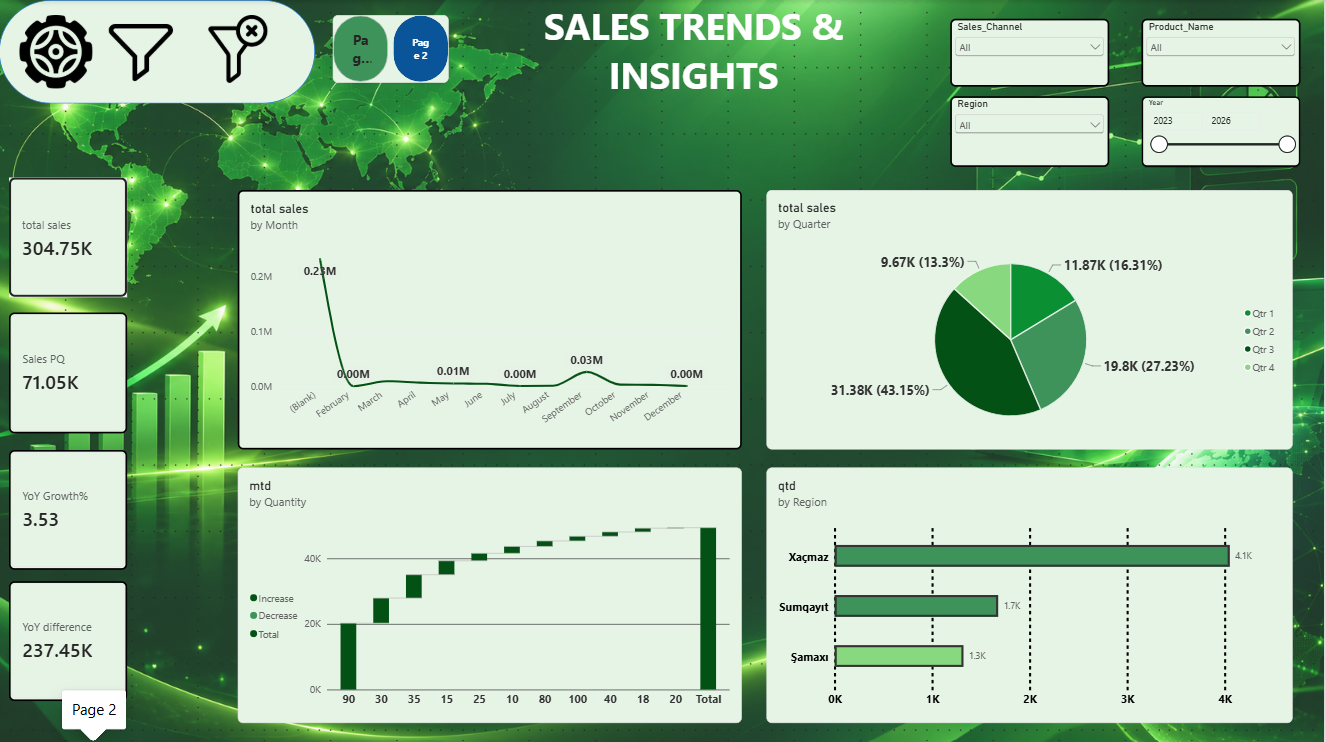

What the dashboard file says about the page in this screenshot:
{"tool":"powerbi","page":{"name":"Page 2","canvas":[1920,1080],"ordinal":1},"visuals":[{"type":"textbox","box":[698,0,618,164],"z":0},{"type":"cardVisual","fields":{"Data":["corporate sales dataset.Sales PQ"]},"box":[14,452,171.1,175.3],"z":1000},{"type":"cardVisual","fields":{"Data":["corporate sales dataset.total sales"]},"box":[14,258,171.1,173.2],"z":2000},{"type":"cardVisual","fields":{"Data":["corporate sales dataset.YoY difference"]},"box":[14,842,171.1,173.2],"z":3000},{"type":"cardVisual","fields":{"Data":["corporate sales dataset.YoY Growth%"]},"box":[14,652,171.1,173.2],"z":4000},{"type":"lineChart","fields":{"Category":["corporate sales dataset.Date.Variation.Date Hierarchy.Month"],"Y":["corporate sales dataset.total sales"]},"box":[346,276,730,376],"z":5000},{"type":"barChart","fields":{"Category":["corporate sales dataset.Region"],"Y":["corporate sales dataset.qtd"]},"box":[1112,678,762,370],"z":6000},{"type":"slicer","fields":{"Values":["corporate sales dataset.Sales_Channel"]},"box":[1378,28,230,98],"z":8000},{"type":"slicer","fields":{"Values":["corporate sales dataset.Region"]},"box":[1378,140,230,102],"z":9000},{"type":"slicer","fields":{"Values":["corporate sales dataset.Product_Name"]},"box":[1656,28,230,98],"z":10000},{"type":"slicer","fields":{"Values":["corporate sales dataset.Date.Variation.Date Hierarchy.Year"]},"box":[1656,140,230,102],"z":11000},{"type":"waterfallChart","fields":{"Category":["corporate sales dataset.Quantity"],"Y":["corporate sales dataset.mtd"]},"box":[346,678,730,370],"z":12000},{"type":"pieChart","fields":{"Category":["corporate sales dataset.Date.Variation.Date Hierarchy.Quarter"],"Y":["corporate sales dataset.total sales"]},"box":[1112,276,762,376],"z":13000},{"type":"shape","box":[0,0,458,150],"z":13500},{"type":"image","box":[150,22,110,104],"z":14000},{"type":"image","box":[286,22,120,98],"z":15000},{"type":"image","box":[14,22,136,106],"z":16000},{"type":"pageNavigator","box":[484,22,168,98],"z":16001}]}

Visuals, with their boxes in screenshot pixels (x1, y1, x2, y2), scaled from the page's 1920x1080 canvas onto the 1326x742 screenshot:
textbox: [482, 0, 909, 113]
cardVisual - corporate sales dataset.Sales PQ: [10, 311, 128, 431]
cardVisual - corporate sales dataset.total sales: [10, 177, 128, 296]
cardVisual - corporate sales dataset.YoY difference: [10, 578, 128, 697]
cardVisual - corporate sales dataset.YoY Growth%: [10, 448, 128, 567]
lineChart - corporate sales dataset.Date.Variation.Date Hierarchy.Month x corporate sales dataset.total sales: [239, 190, 743, 448]
barChart - corporate sales dataset.Region x corporate sales dataset.qtd: [768, 466, 1294, 720]
slicer - corporate sales dataset.Sales_Channel: [952, 19, 1111, 87]
slicer - corporate sales dataset.Region: [952, 96, 1111, 166]
slicer - corporate sales dataset.Product_Name: [1144, 19, 1303, 87]
slicer - corporate sales dataset.Date.Variation.Date Hierarchy.Year: [1144, 96, 1303, 166]
waterfallChart - corporate sales dataset.Quantity x corporate sales dataset.mtd: [239, 466, 743, 720]
pieChart - corporate sales dataset.Date.Variation.Date Hierarchy.Quarter x corporate sales dataset.total sales: [768, 190, 1294, 448]
shape: [0, 0, 316, 103]
image: [104, 15, 180, 87]
image: [198, 15, 280, 82]
image: [10, 15, 104, 88]
pageNavigator: [334, 15, 450, 82]
